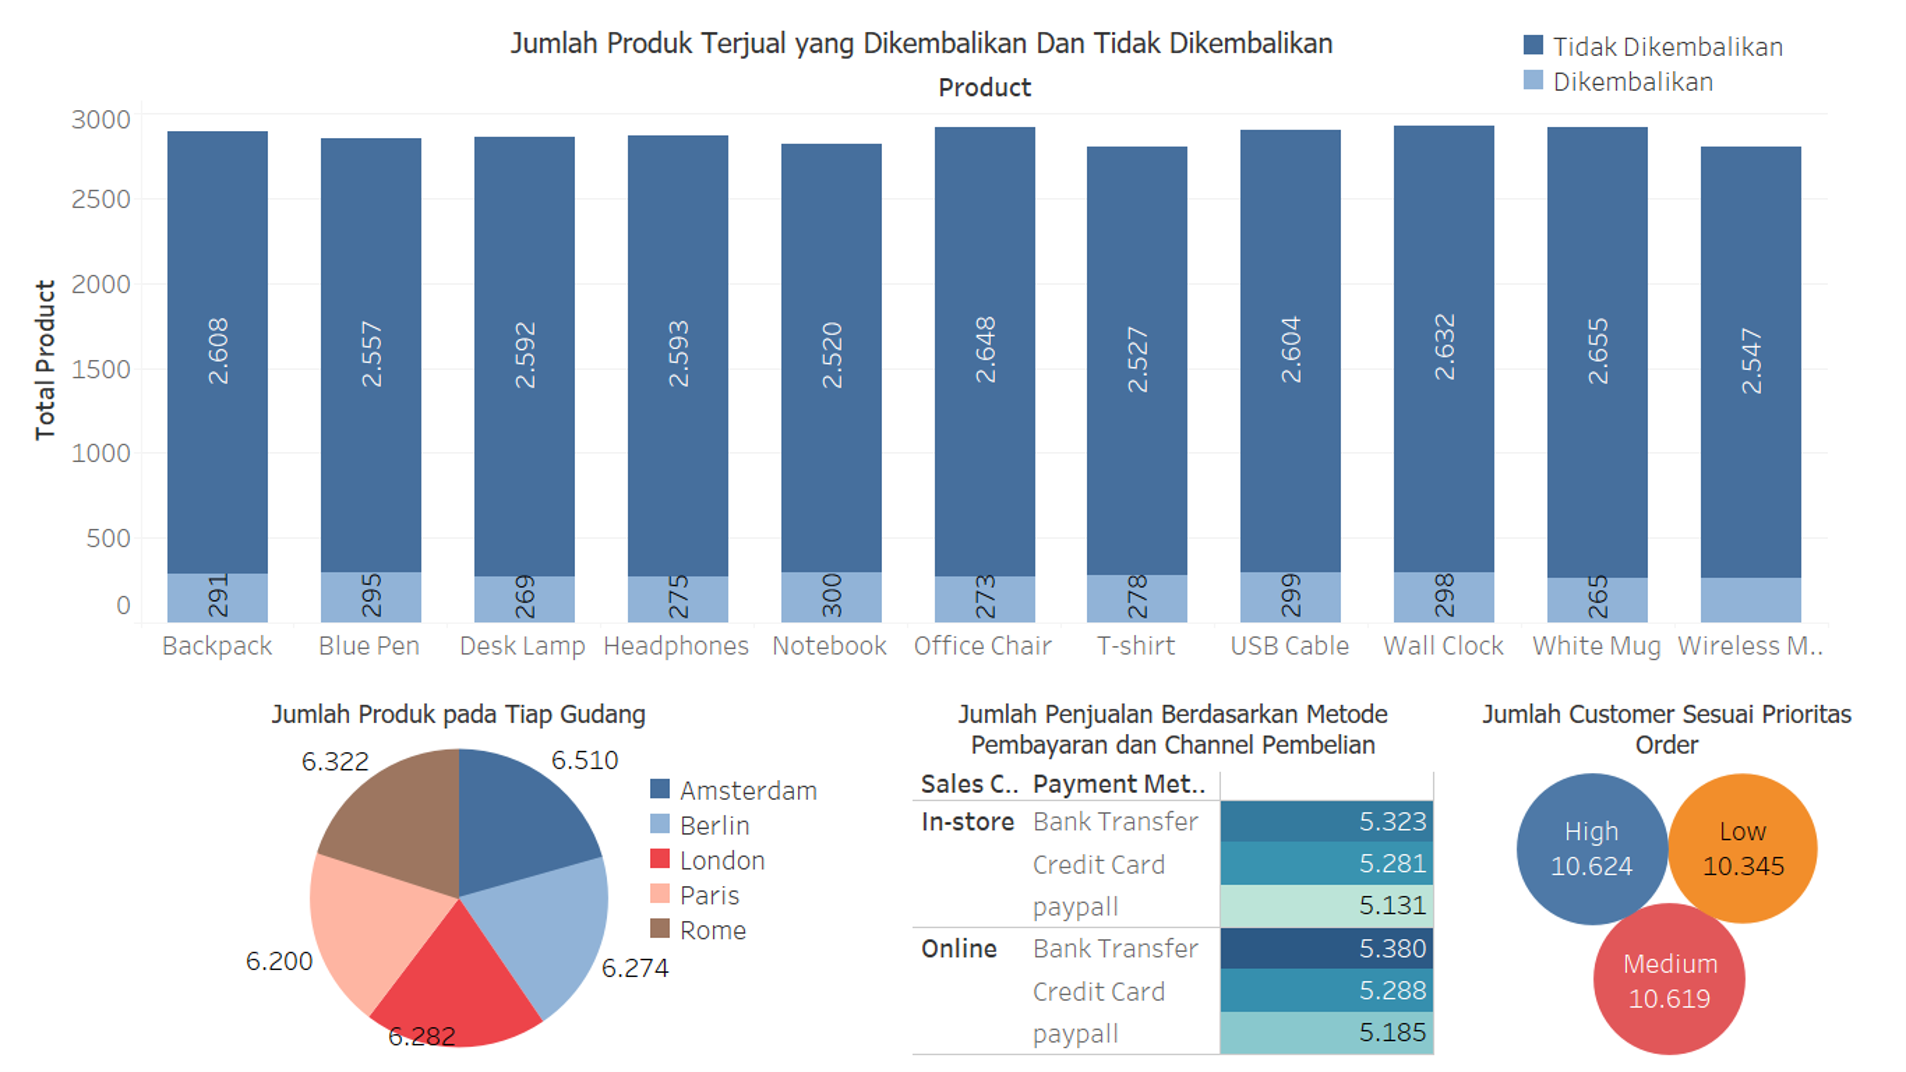

This screenshot's page, from the dashboard's own definition file:
{"tool":"tableau","page":{"name":"Dashboard 2","canvas":[1366,768],"ordinal":1},"visuals":[{"type":"worksheet","title":"Produk Terjual","mark":"Bar","rows":["Description"],"cols":["Description"],"box":[8,8,1306.1,481.5]},{"type":"legend","title":"Produk Terjual","param":"[federated.1v7c8ar1iwubtf10nusng1uj9447].[none:ReturnStatus:nk]","box":[1087.3,20.2,269.1,73]},{"type":"worksheet","title":"Produk Gudang","mark":"Pie","box":[8,489.5,642,270.5]},{"type":"worksheet","title":"Payment","mark":"Square","rows":["SalesChannel","PaymentMethod"],"box":[650,489.5,382,270.5]},{"type":"worksheet","title":"Priority","mark":"Circle","box":[1032,489.5,326,270.5]},{"type":"legend","title":"Produk Gudang","param":"[federated.1v7c8ar1iwubtf10nusng1uj9447].[none:WarehouseLocation:nk]","box":[461,553,192,133]}]}

Visuals, with their boxes in screenshot pixels (x1, y1, x2, y2), scaled from the page's 1366x768 canvas onto the 1906x1072 screenshot:
"Produk Terjual" worksheet (Bar marks): select_region(11, 11, 1834, 683)
"Produk Terjual" legend: select_region(1517, 28, 1893, 130)
"Produk Gudang" worksheet (Pie marks): select_region(11, 683, 907, 1061)
"Payment" worksheet (Square marks): select_region(907, 683, 1440, 1061)
"Priority" worksheet (Circle marks): select_region(1440, 683, 1895, 1061)
"Produk Gudang" legend: select_region(643, 772, 911, 958)
